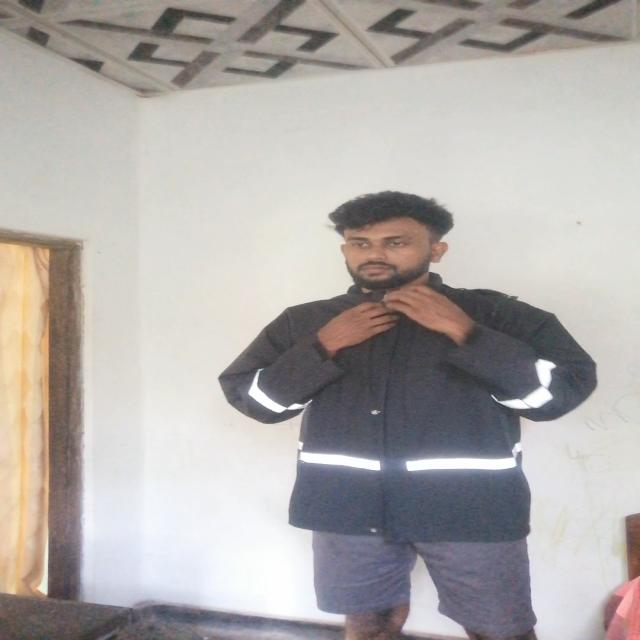Jacket_Wearer: (282, 274, 602, 542)
